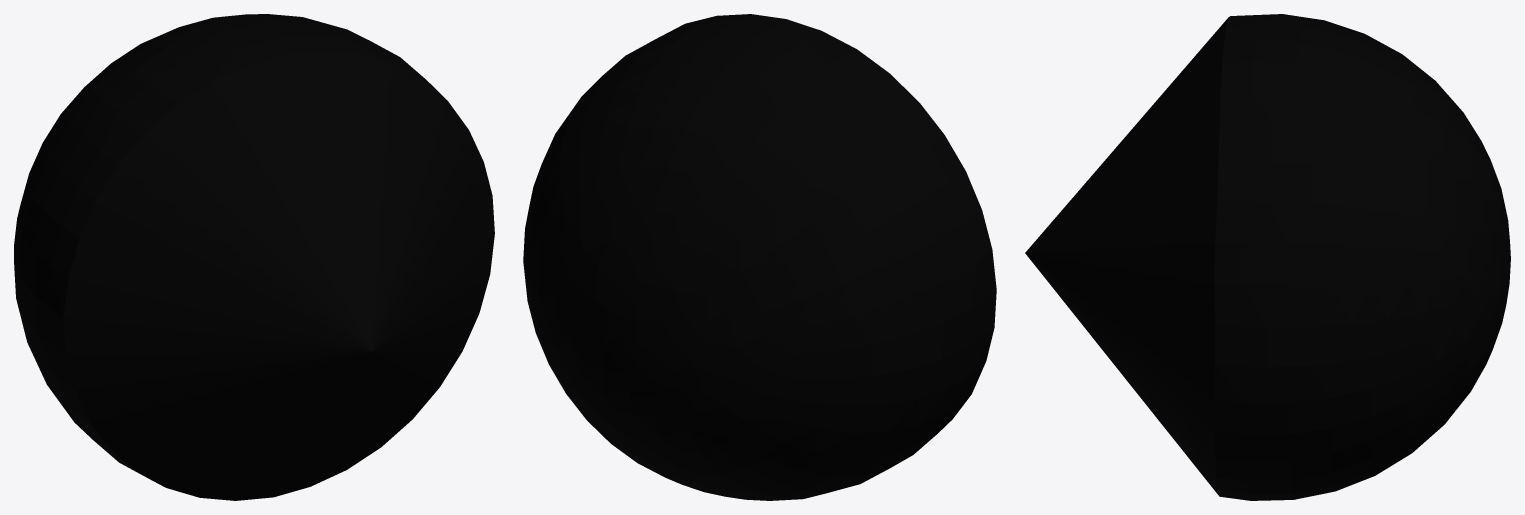
File: CapWorldSky.dae
3 views of the same model, side by side, from view 1: azimuth 30°, elevation 25°; view 2: azimuth 150°, elevation 25°; view 3: azimuth 270°, elevation 25° (orthographic).
Visible parts, largest first — view 1: CapWorldSky; view 2: CapWorldSky; view 3: CapWorldSky.
Part boxes in pixels (box(x1,y1,x2,y2)): CapWorldSky: box(14, 14, 494, 500); CapWorldSky: box(523, 14, 996, 500); CapWorldSky: box(1025, 14, 1510, 500).
Size of the model in its own units: 1551646 by 1553118 by 1546530.
